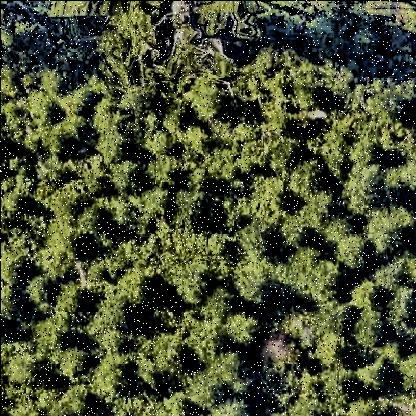tree-top: (95, 3, 165, 68), (285, 251, 348, 307), (340, 217, 406, 267), (223, 268, 269, 338), (140, 328, 192, 382), (242, 171, 292, 227), (362, 208, 414, 260), (85, 354, 138, 405), (337, 163, 386, 217), (229, 259, 278, 309), (167, 259, 219, 306), (206, 345, 253, 395), (182, 75, 228, 126), (1, 344, 47, 392), (258, 332, 306, 378), (309, 296, 357, 341), (316, 368, 360, 413), (46, 221, 90, 265), (115, 268, 160, 311), (174, 186, 217, 230), (285, 159, 329, 201), (193, 1, 241, 39), (228, 223, 276, 261), (220, 309, 262, 352), (346, 313, 390, 354), (330, 230, 370, 273), (262, 133, 302, 176), (52, 284, 93, 324), (51, 343, 93, 382), (310, 334, 353, 372), (379, 291, 416, 334), (354, 357, 394, 396), (28, 316, 69, 354), (294, 70, 327, 117), (135, 188, 175, 226), (87, 321, 127, 359), (22, 273, 59, 313), (381, 161, 416, 203), (92, 131, 130, 169), (107, 160, 143, 198), (26, 89, 61, 127), (1, 244, 27, 294), (32, 153, 68, 189), (58, 381, 94, 416), (373, 87, 404, 125), (76, 205, 109, 240), (179, 122, 211, 158), (3, 185, 35, 216), (203, 399, 250, 416), (344, 395, 381, 416), (398, 354, 416, 396)
